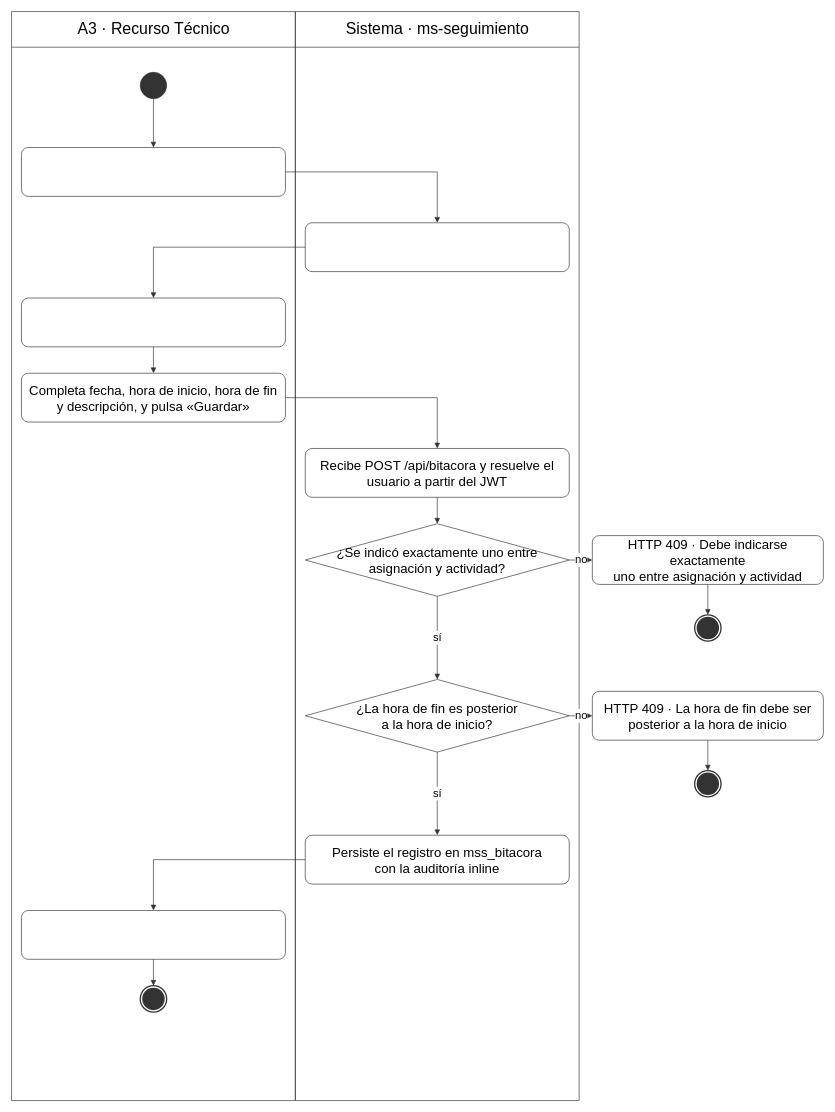
Some shapes in this 835 by 1112 pixel diagram are drawn without their labels. Here are the shapes that lost their labels. From the top down, the box of each, then its label:
(21, 147, 285, 196): Accede al módulo «Mi Bitácora»
(305, 222, 569, 272): Muestra los registros del periodo consultado (GET /api/bitacora/mia)
(21, 297, 285, 347): Elige a qué imputar el tiempo: una asignación o una actividad
(21, 910, 285, 959): El sistema confirma el registro
